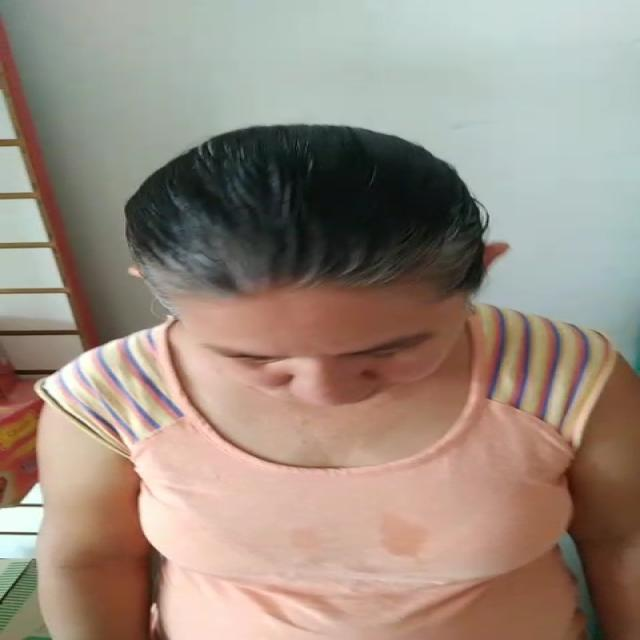9_cabeza_baja: (127, 122, 512, 406)
